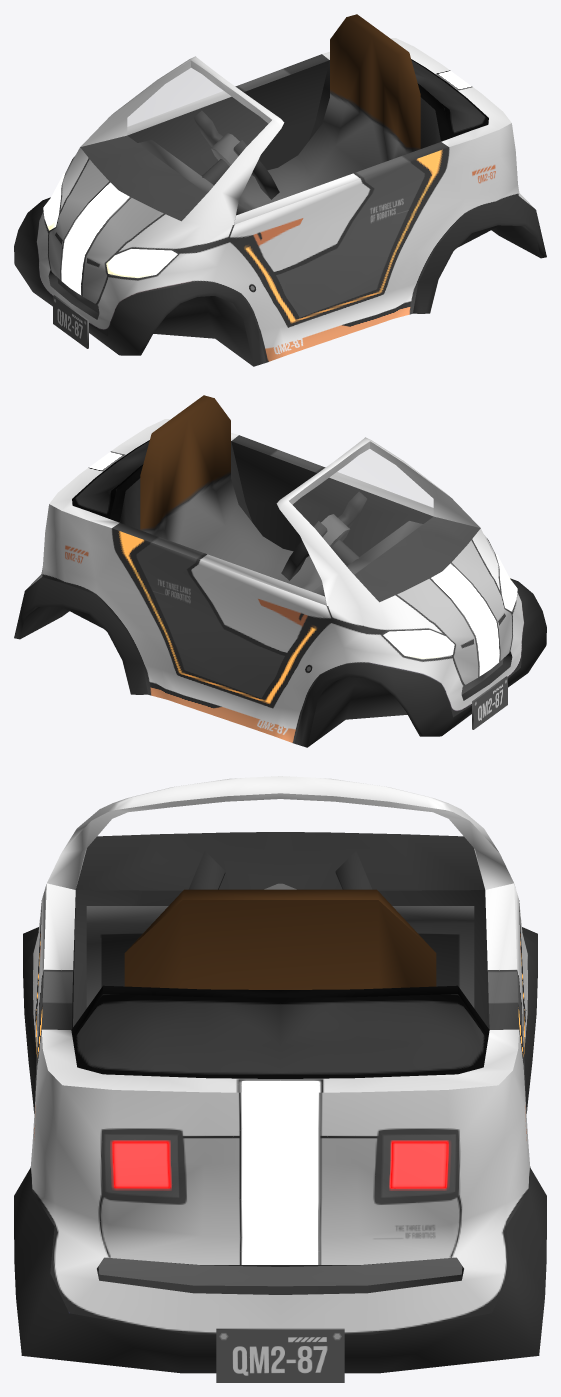
File: car_body.glb
The picture shows the model from 3 angles, top to bottom: view 1: azimuth 30°, elevation 25°; view 2: azimuth 150°, elevation 25°; view 3: azimuth 270°, elevation 25°; orthographic projection. The views are drawn at different scales.
Visible parts, largest first — view 1: car_l, car_glass; view 2: car_l, car_glass; view 3: car_l.
Boxes of the visible parts, bbox=[...] form: car_l: bbox=[14, 14, 546, 366]; car_glass: bbox=[80, 61, 271, 220]; car_l: bbox=[14, 395, 546, 747]; car_glass: bbox=[289, 442, 480, 601]; car_l: bbox=[14, 776, 546, 1382].
Size of the model in its own units: 3.7 by 2.05 by 2.21.
2 materials, 1 textured.
